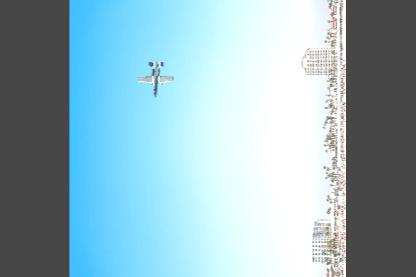A10: (138, 61, 173, 98)
